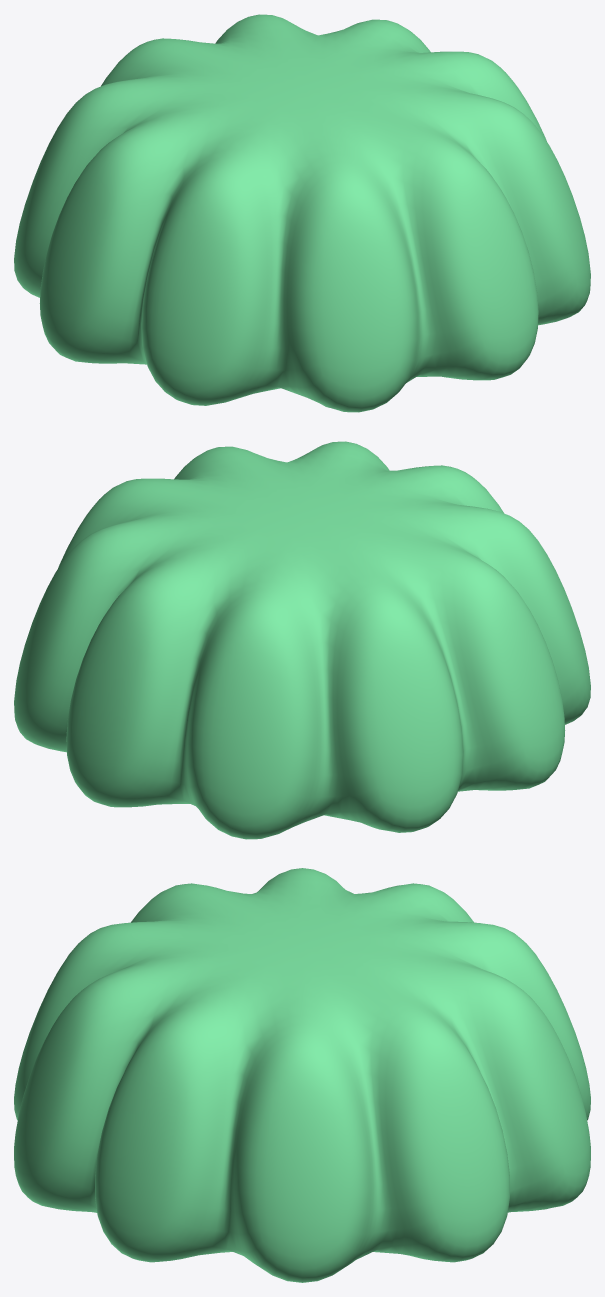
File: Jelly.fbx
The picture shows the model from 3 angles, top to bottom: view 1: azimuth 30°, elevation 25°; view 2: azimuth 150°, elevation 25°; view 3: azimuth 270°, elevation 25°; orthographic projection. The views are drawn at different scales.
Visible parts, largest first — view 1: Cylinder; view 2: Cylinder; view 3: Cylinder.
Part boxes in pixels (left/top/right/bottom): Cylinder: left=14, top=14, right=590, bottom=412; Cylinder: left=14, top=441, right=590, bottom=839; Cylinder: left=14, top=868, right=590, bottom=1282.
Size of the model in its own units: 201 by 87.49 by 194.
